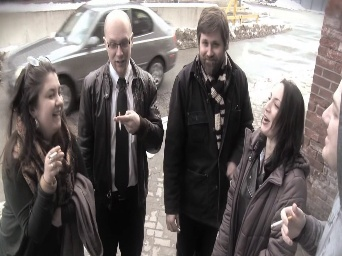smoke: (269, 215, 291, 227), (47, 147, 62, 158), (116, 111, 122, 129)
